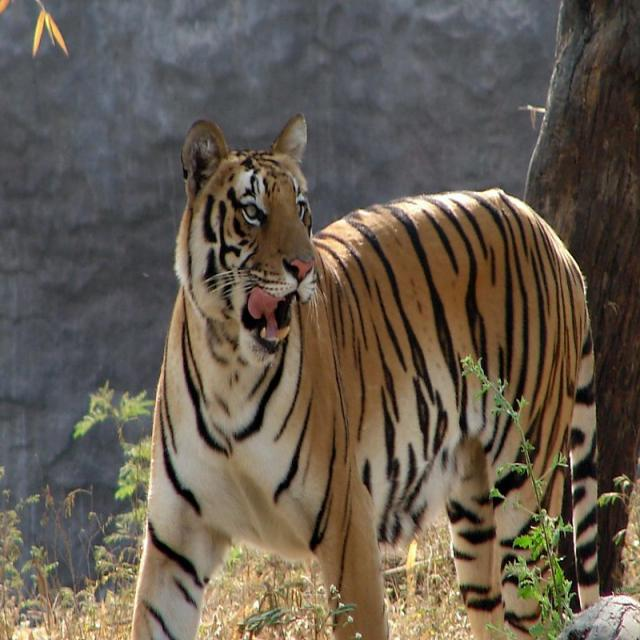Tiger: (120, 106, 600, 636)
